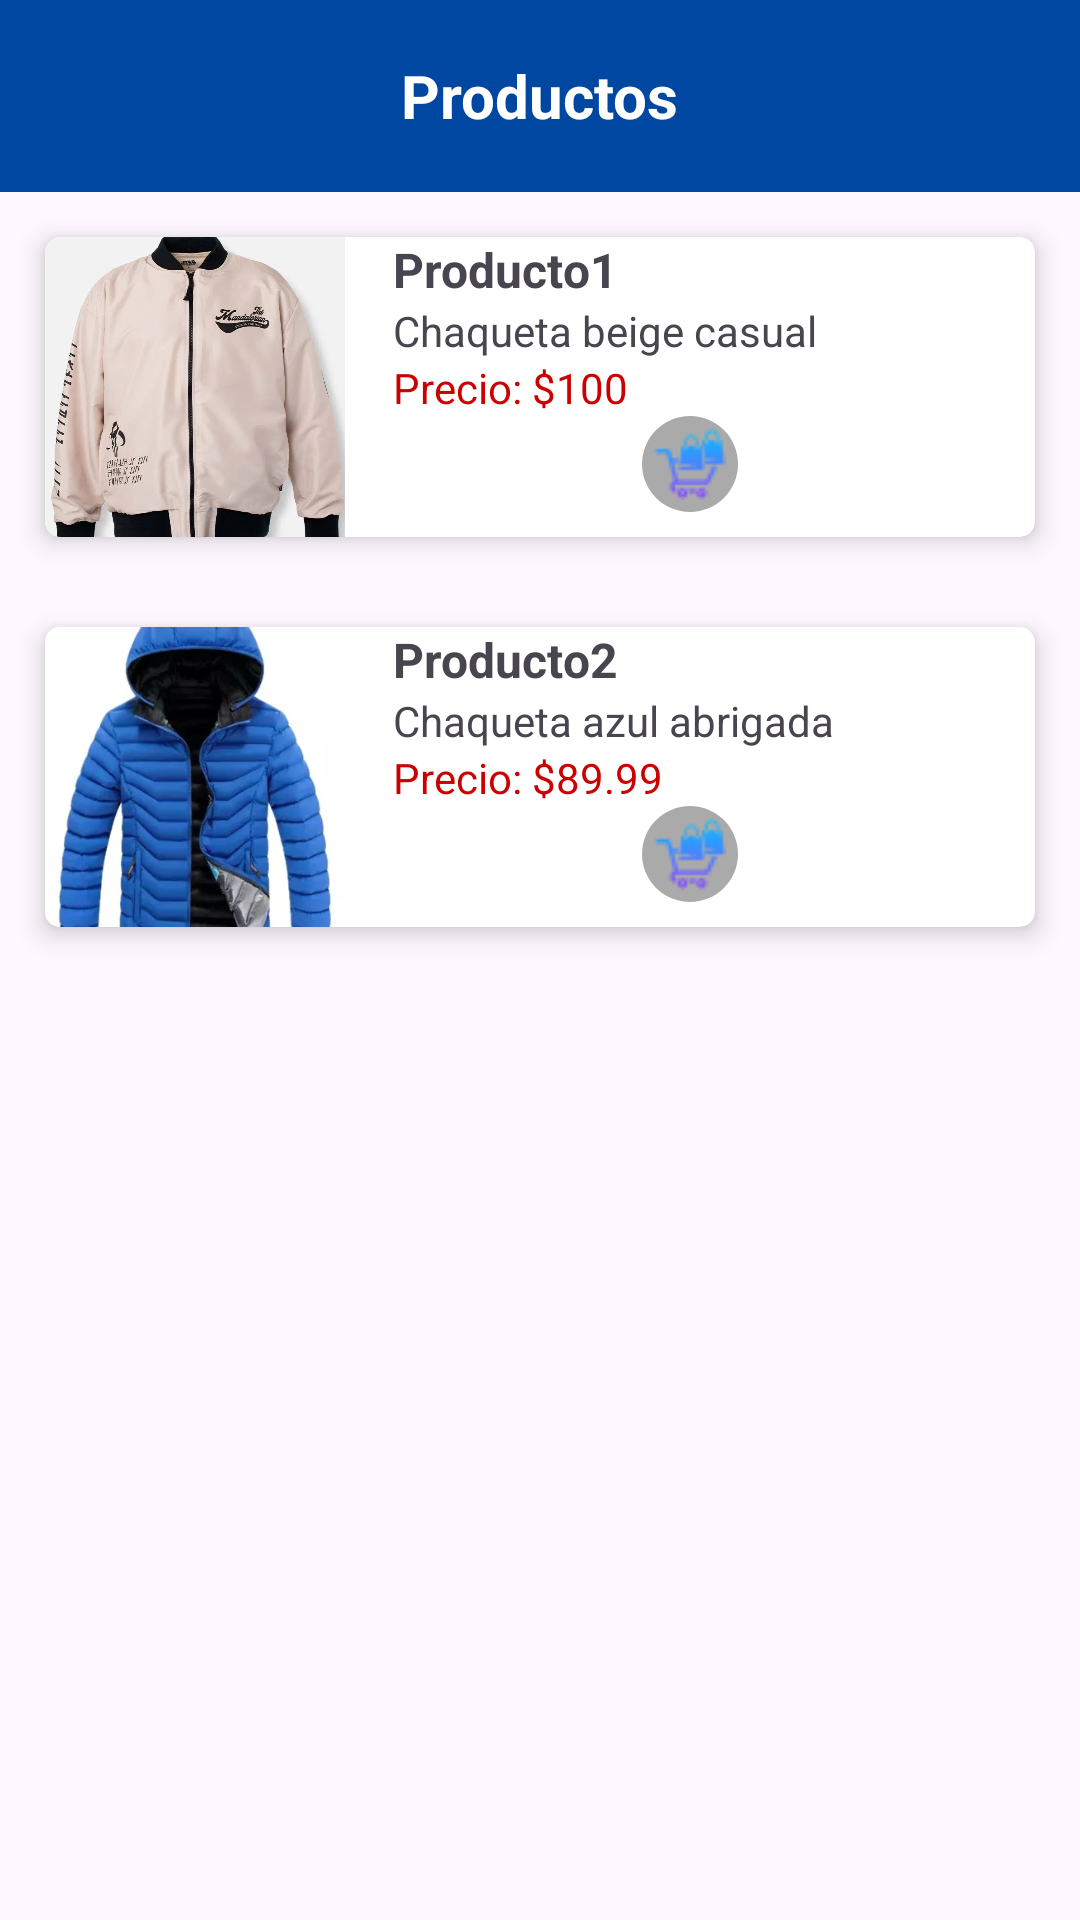

Screen size 1080×1920. Icon name, then its center in pixels as [x,y]:
botoncomprar: [690,464], [690,854]
